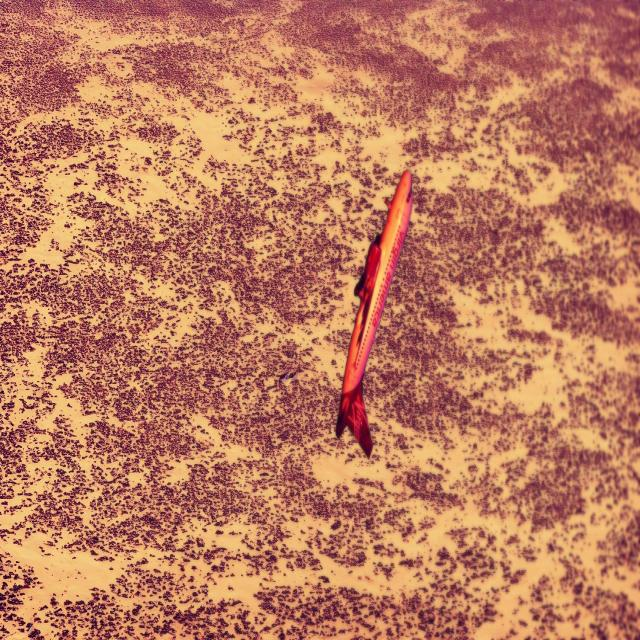airplane: (334, 168, 412, 459)
